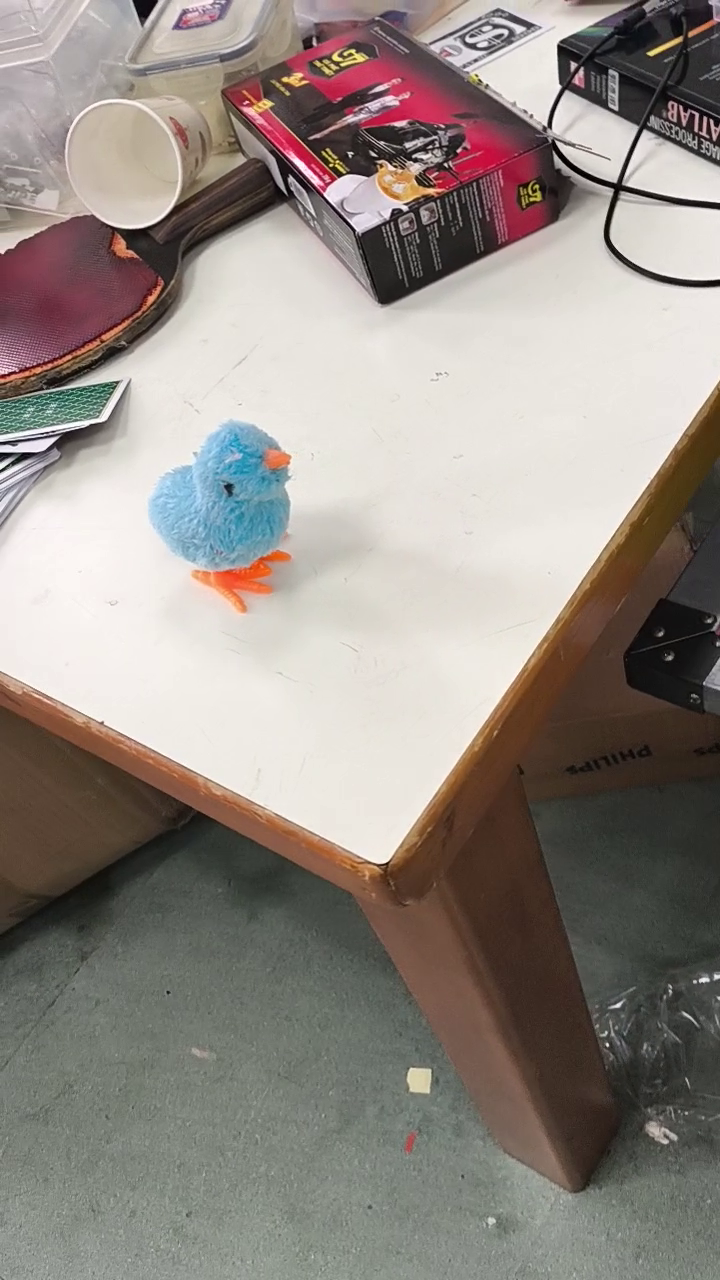blue chicken: (146, 417, 300, 619)
